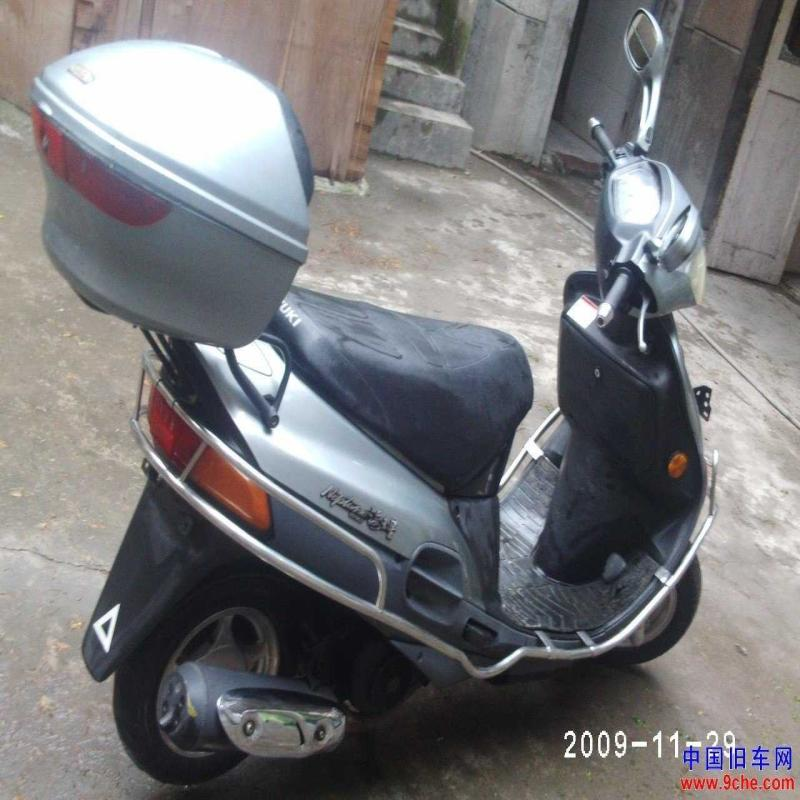bike: (130, 52, 726, 798)
